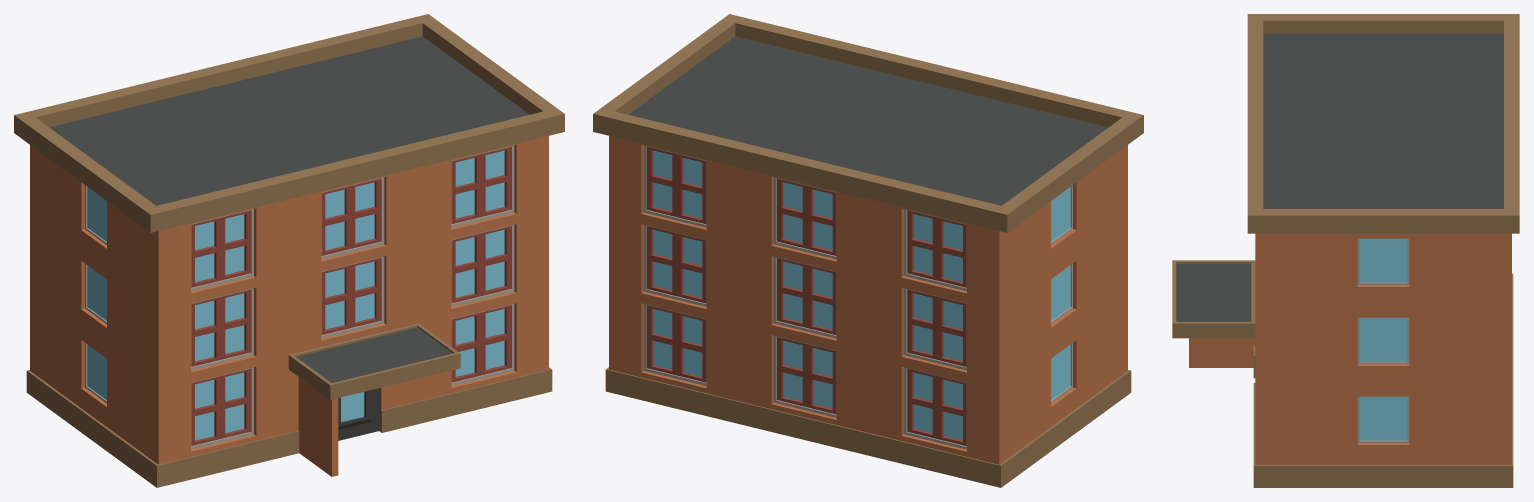
The model's file is SM_house_35.gltf.
3 views of the same model, side by side, from view 1: azimuth 30°, elevation 25°; view 2: azimuth 150°, elevation 25°; view 3: azimuth 270°, elevation 25° (orthographic).
Parts seen in each view (by area): view 1: SM_house_35; view 2: SM_house_35; view 3: SM_house_35.
Part boxes in pixels (x1,y1,x2,y2): SM_house_35: (14,14,564,487); SM_house_35: (593,14,1143,487); SM_house_35: (1172,14,1519,487).
Bounding box in the file's own units: 4.84 × 3.1 × 3.52.
